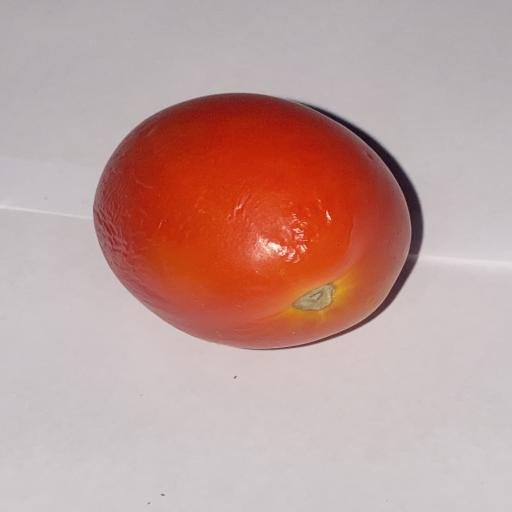spoiled: (94, 94, 410, 348)
